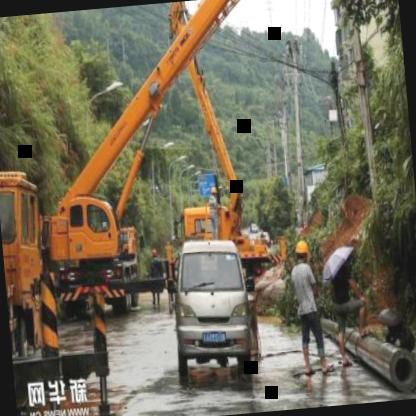helmet: (292, 238, 312, 268), (208, 184, 218, 196)
